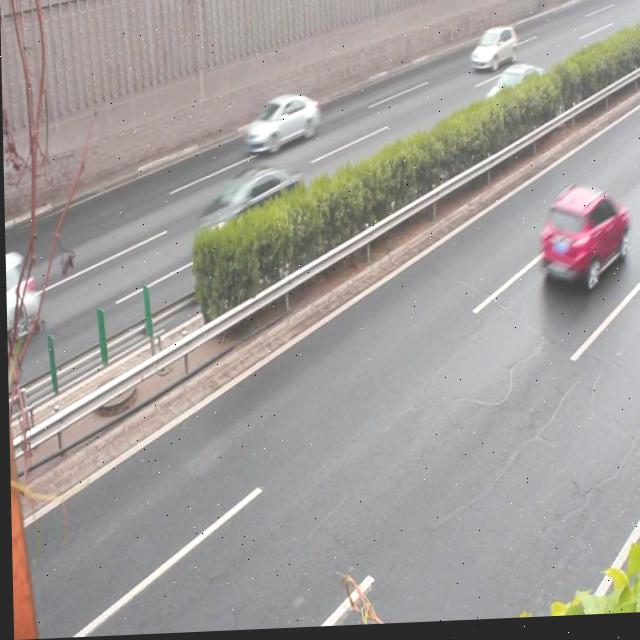car: (193, 169, 303, 261), (536, 188, 626, 291), (242, 95, 319, 158), (484, 67, 544, 124), (468, 29, 515, 75)
